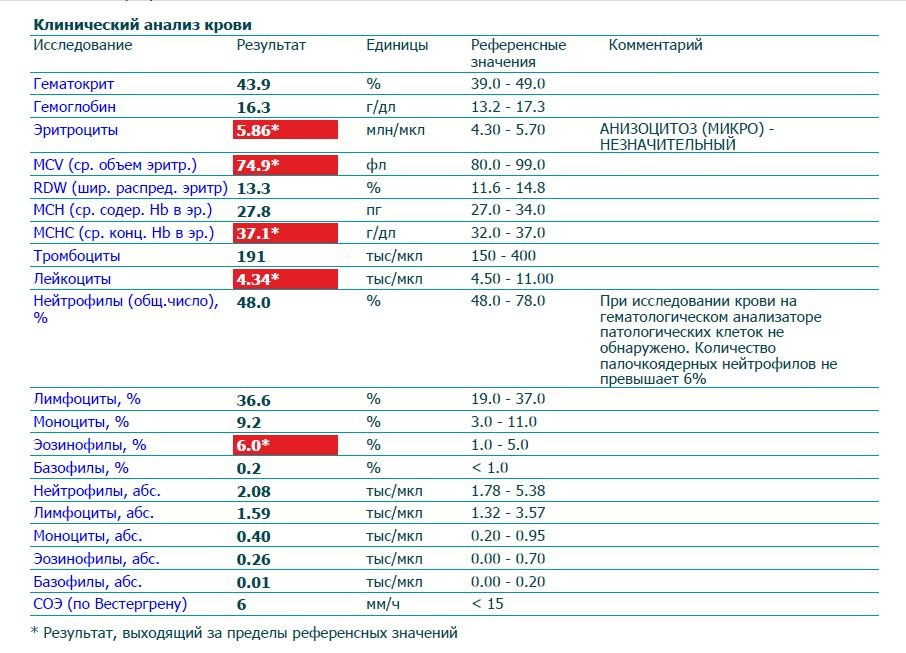column: (598, 35, 838, 615), (32, 35, 228, 615), (470, 35, 567, 615), (235, 35, 307, 615), (365, 35, 429, 615)
